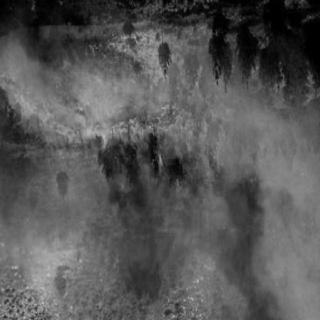Fire: (3, 44, 229, 190)
